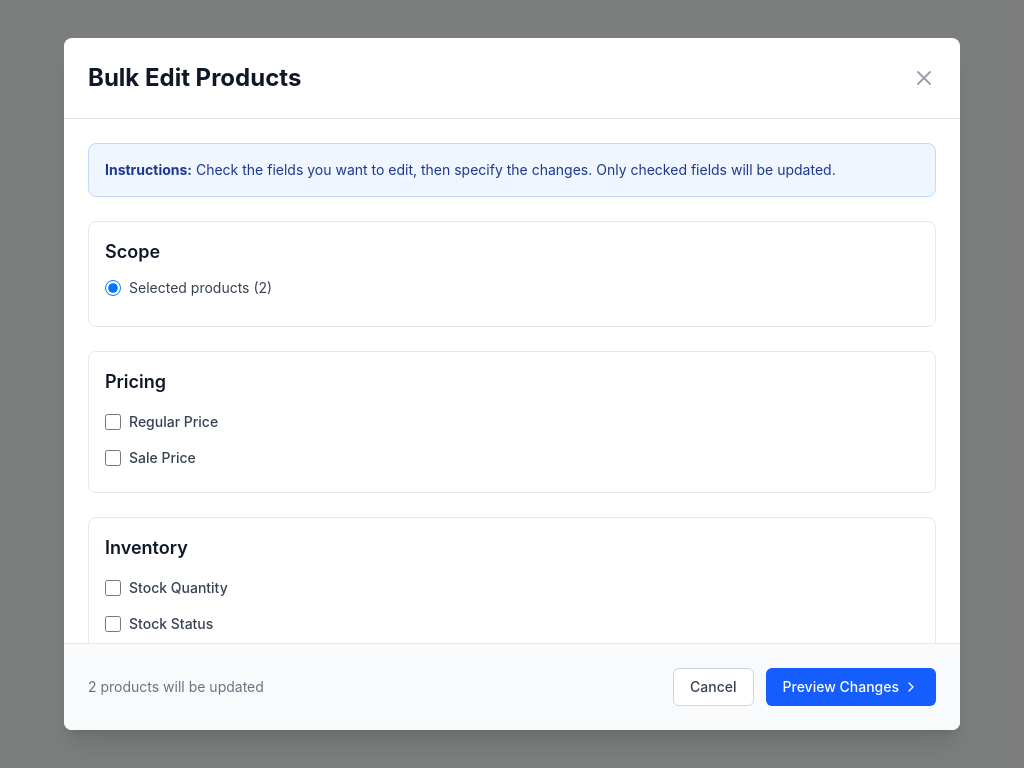
Test case: BulkEditModal › Pricing Section › should show price inputs when checkbox is checked
The image size is (1024, 768).
Click the checkbox labelled "Regular Price" at (113, 422), box [105,414,121,430]
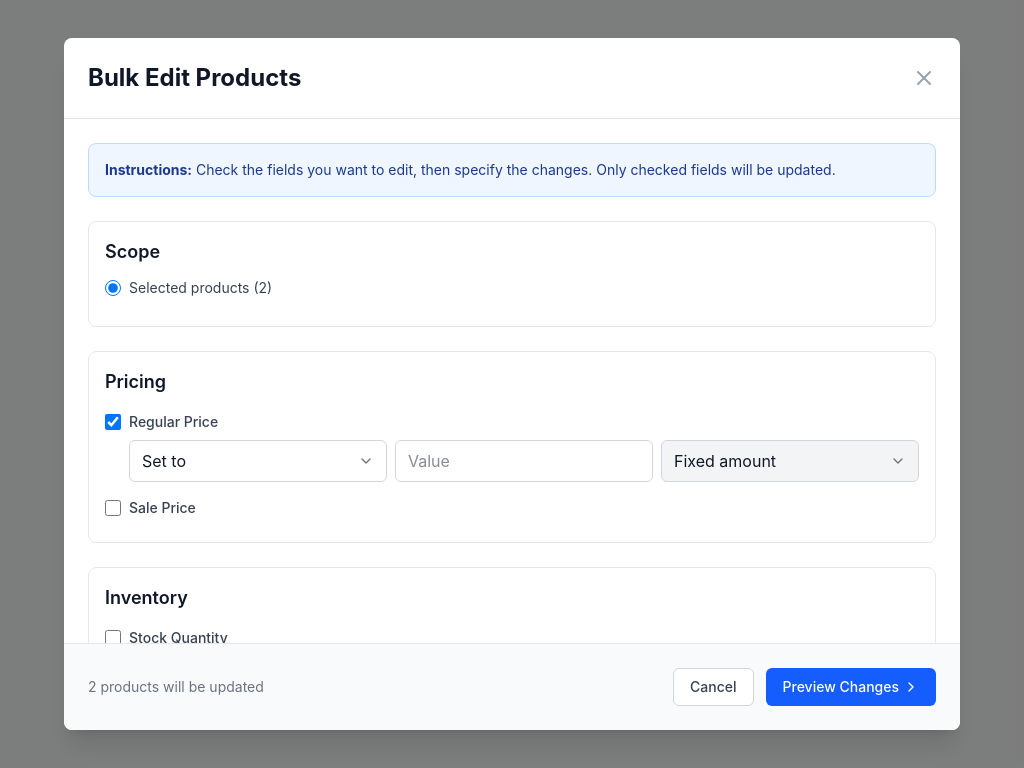
Expected: the number field with placeholder "Value" is shown, [395,440,653,482]
